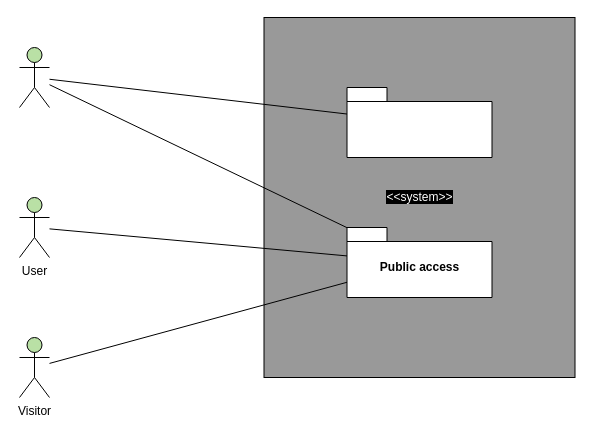
Some shapes in this 593 by 436 pixel diagram are drawn without their labels. Each missing label, with the box of its shape:
Admin: (18, 46, 50, 108)
Blog management: (346, 86, 492, 158)
